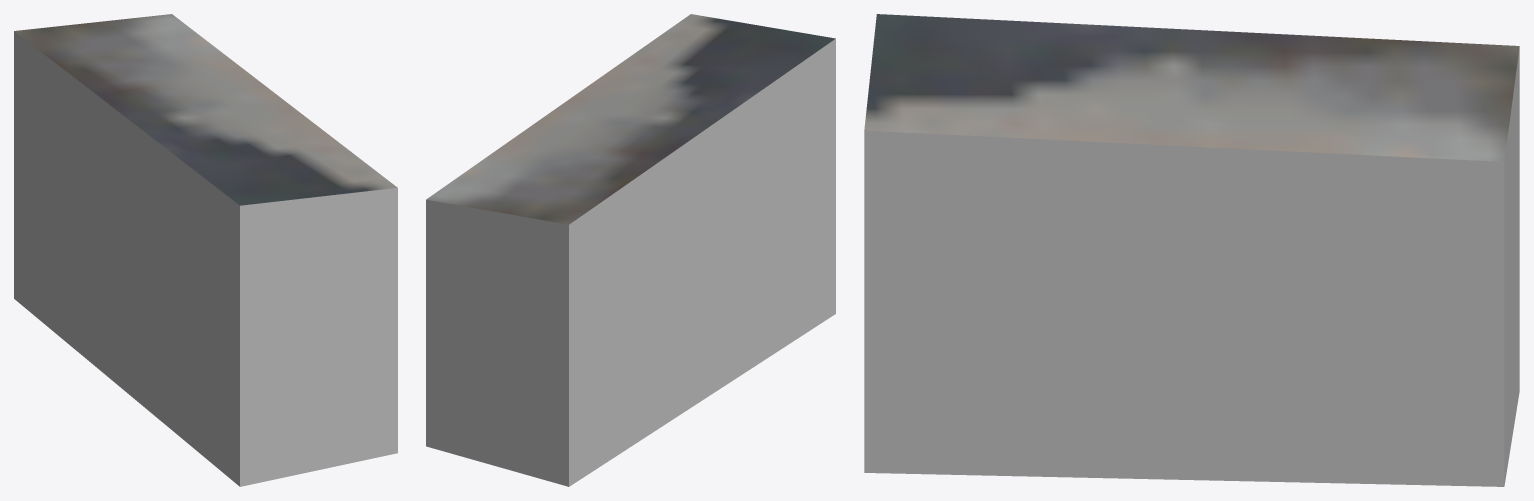
The model's file is DEBW_0010007THvB.gltf.
3 renders of one model, left to right at view 1: azimuth 30°, elevation 25°; view 2: azimuth 150°, elevation 25°; view 3: azimuth 270°, elevation 25°, orthographic. The views are drawn at different scales.
Visible parts, largest first — view 1: Z_UP; view 2: Z_UP; view 3: Z_UP.
Boxes of the visible parts, <box> form: Z_UP: <box>14,14,397,486</box>; Z_UP: <box>426,14,835,486</box>; Z_UP: <box>864,14,1519,486</box>.
Size of the model in its own units: 1.88 by 2.88 by 4.72.
2 materials, 1 textured.
